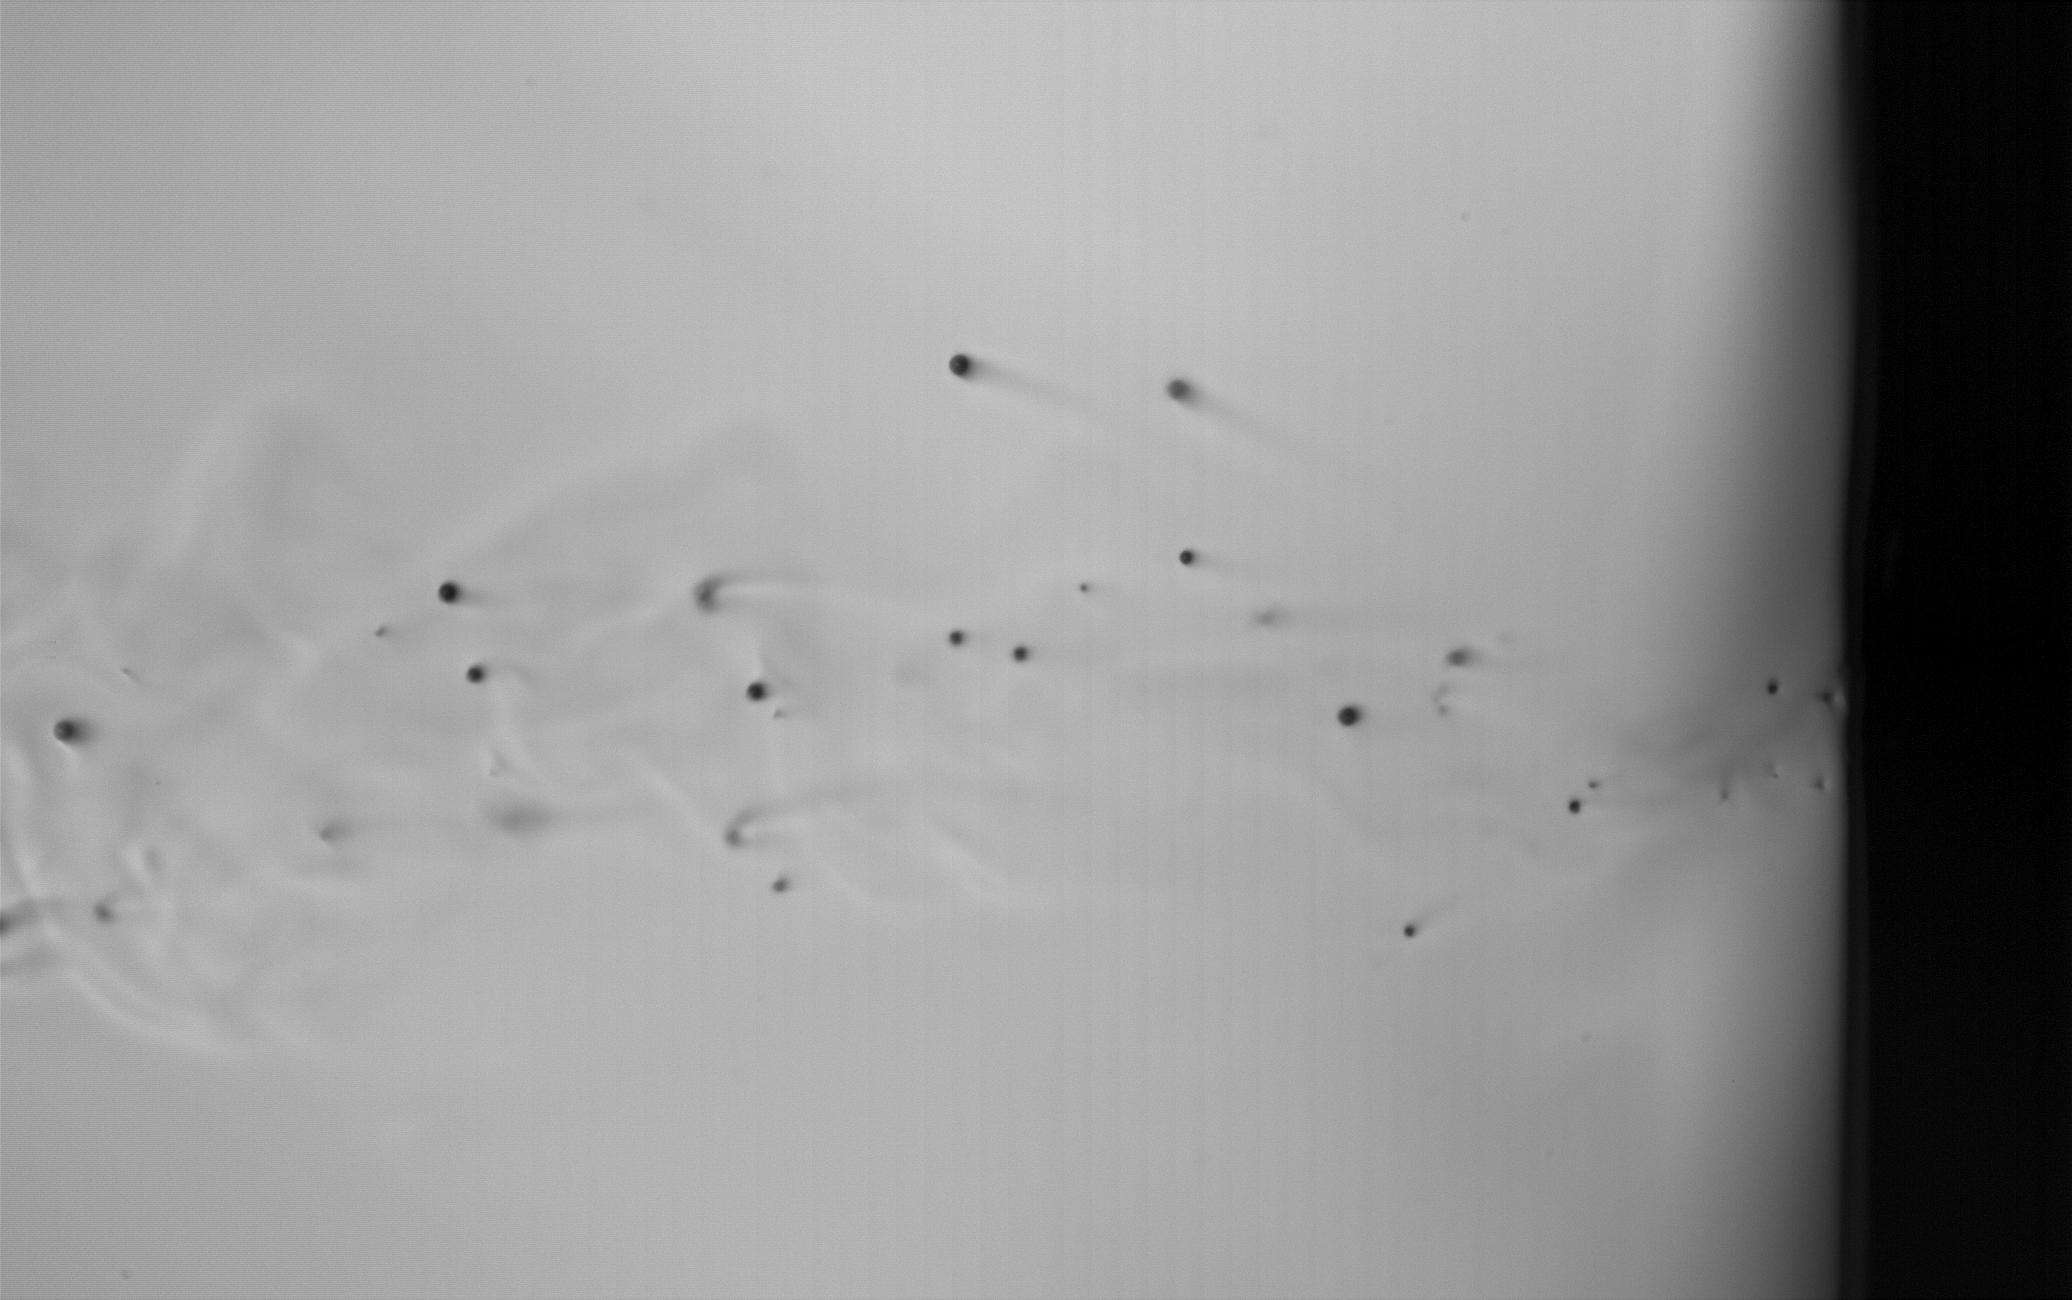Blurry: (484, 798, 561, 845), (93, 887, 133, 929), (1445, 634, 1479, 681), (1243, 604, 1292, 635), (764, 867, 801, 902), (1069, 577, 1094, 602)
ClassicalEvaporation: (45, 707, 100, 747), (1160, 373, 1198, 410), (948, 347, 981, 382), (431, 577, 466, 610), (1174, 544, 1204, 575), (1332, 702, 1364, 732), (943, 626, 970, 654), (741, 678, 770, 705), (1761, 675, 1786, 705), (463, 659, 488, 689), (1395, 914, 1421, 944), (1006, 640, 1032, 666), (1564, 795, 1585, 819)
DiffusiveMixing: (690, 571, 743, 622)
TransitionalMixing: (722, 807, 762, 854)
